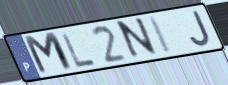2: (90, 24, 129, 65)
I: (147, 14, 175, 56)
J: (189, 9, 213, 48)
L: (59, 29, 99, 70)
M: (21, 30, 77, 77)
N: (116, 15, 160, 63)
